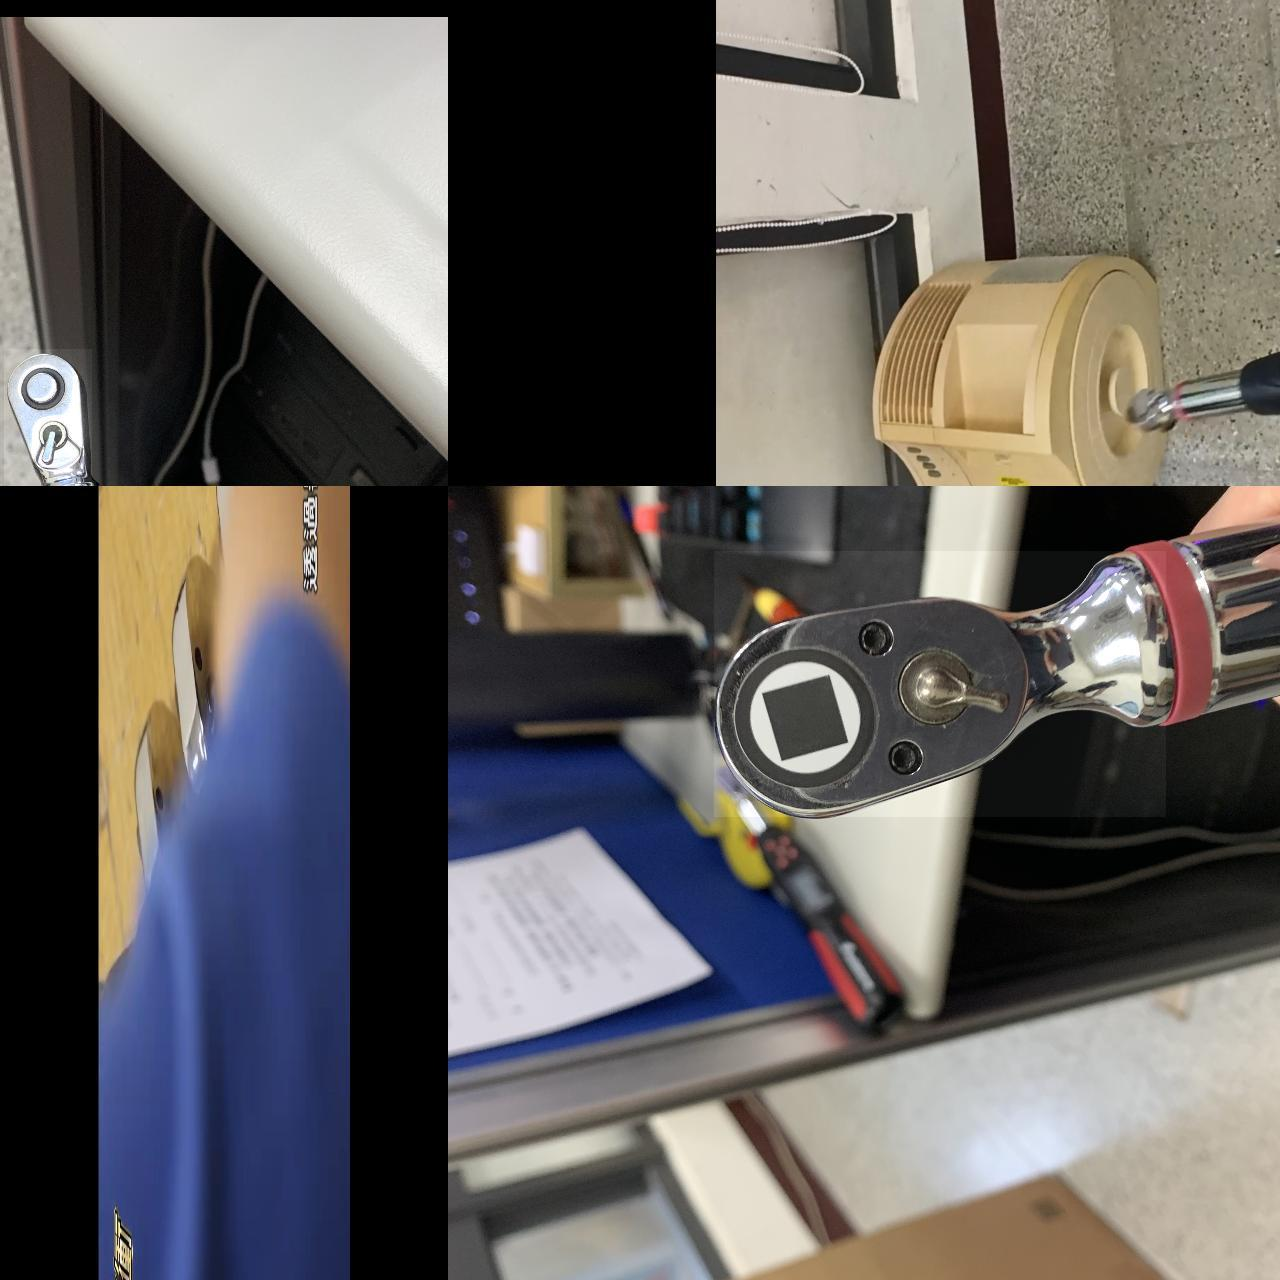Tool: (714, 550, 1166, 816), (4, 348, 91, 486)
